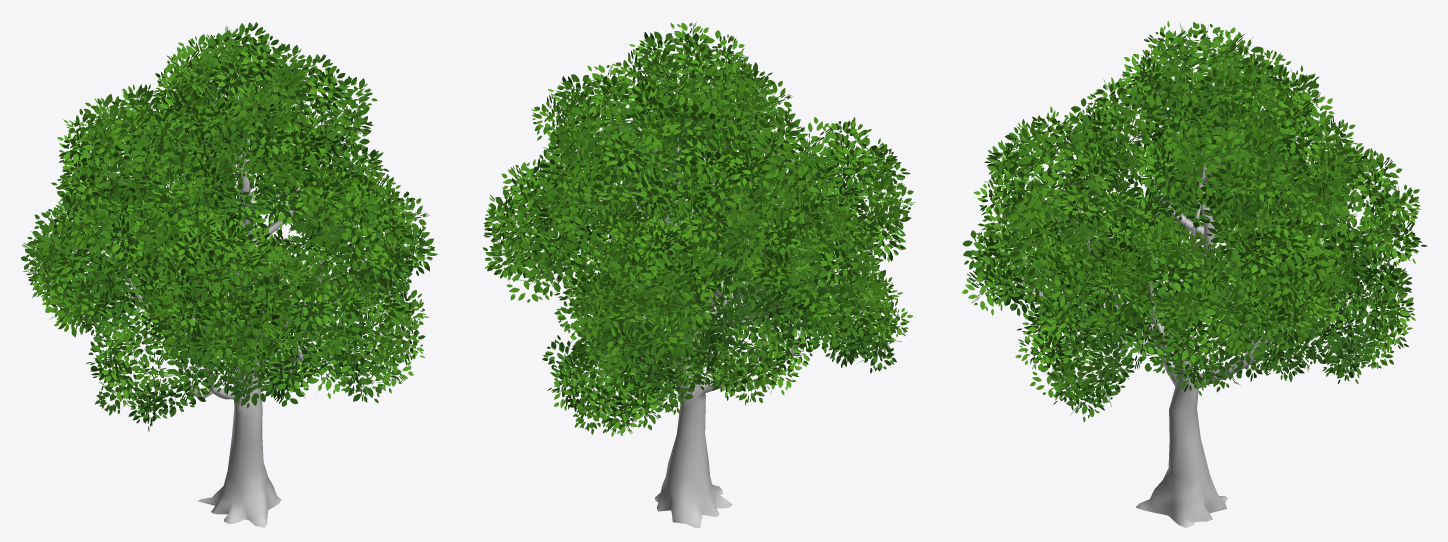
Rendered from FSS_tree_002.FBX.
3 renders of one model, left to right at view 1: azimuth 30°, elevation 25°; view 2: azimuth 150°, elevation 25°; view 3: azimuth 270°, elevation 25°, orthographic.
Visible parts, largest first — view 1: leaves_002, trunk_002; view 2: leaves_002, trunk_002; view 3: leaves_002, trunk_002.
Boxes of the visible parts, left/top/right/bottom form: leaves_002: left=21, top=22, right=437, bottom=431; trunk_002: left=126, top=132, right=366, bottom=527; leaves_002: left=482, top=22, right=915, bottom=436; trunk_002: left=595, top=137, right=800, bottom=527; leaves_002: left=962, top=21, right=1426, bottom=422; trunk_002: left=1023, top=146, right=1279, bottom=527.
Size of the model in its own units: 407 by 441 by 494.
